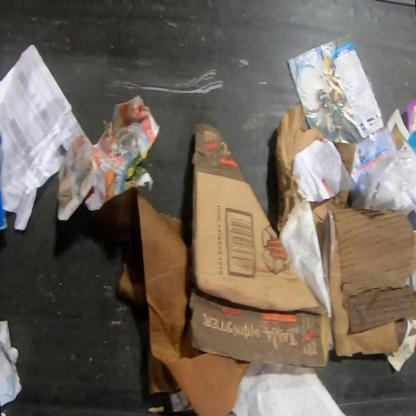cardboard: (189, 124, 329, 371), (100, 189, 251, 415), (322, 207, 415, 357), (274, 104, 326, 233), (310, 188, 350, 260), (333, 142, 356, 177)
soft_plastic: (363, 150, 416, 216)
